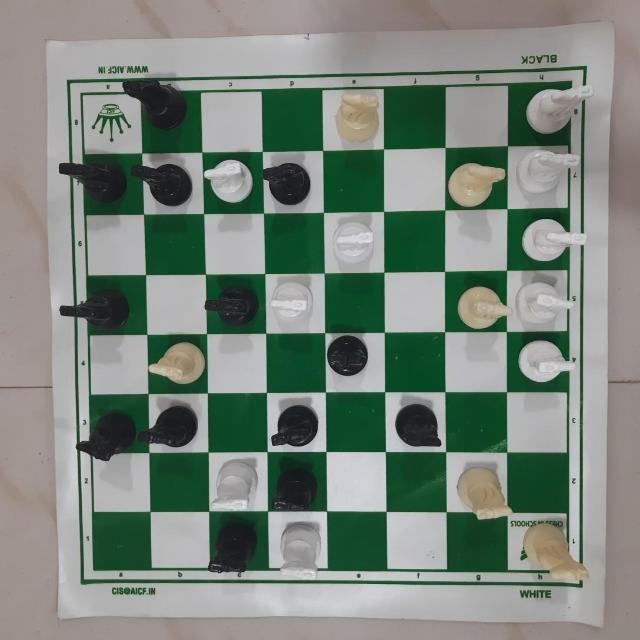black-knight: (56, 154, 126, 210), (60, 283, 138, 333), (119, 78, 193, 127), (77, 403, 137, 459), (131, 160, 193, 210), (135, 402, 201, 447), (259, 149, 309, 206), (391, 399, 446, 450), (204, 278, 262, 326), (210, 519, 257, 576), (271, 397, 321, 447), (328, 332, 368, 378)
white-knight: (515, 78, 595, 141), (521, 518, 589, 587), (456, 461, 512, 523), (514, 270, 577, 325), (516, 146, 584, 196), (273, 515, 326, 579), (445, 152, 506, 206), (513, 335, 578, 382), (146, 337, 206, 387), (519, 215, 585, 260), (329, 89, 381, 146), (453, 279, 514, 327), (211, 457, 263, 511), (203, 156, 253, 210), (330, 215, 378, 269), (267, 275, 315, 323)
